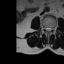CCS_stenosis: (48, 25, 49, 34)
LFS_normal: (51, 25, 53, 32)
LLS_normal: (49, 25, 51, 33)
RFS_normal: (44, 24, 46, 31)
RLS_normal: (46, 25, 48, 32)
